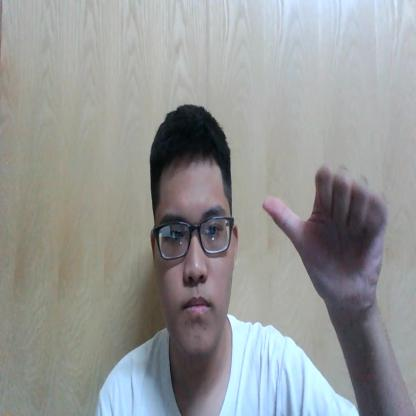right: (262, 161, 388, 310)
